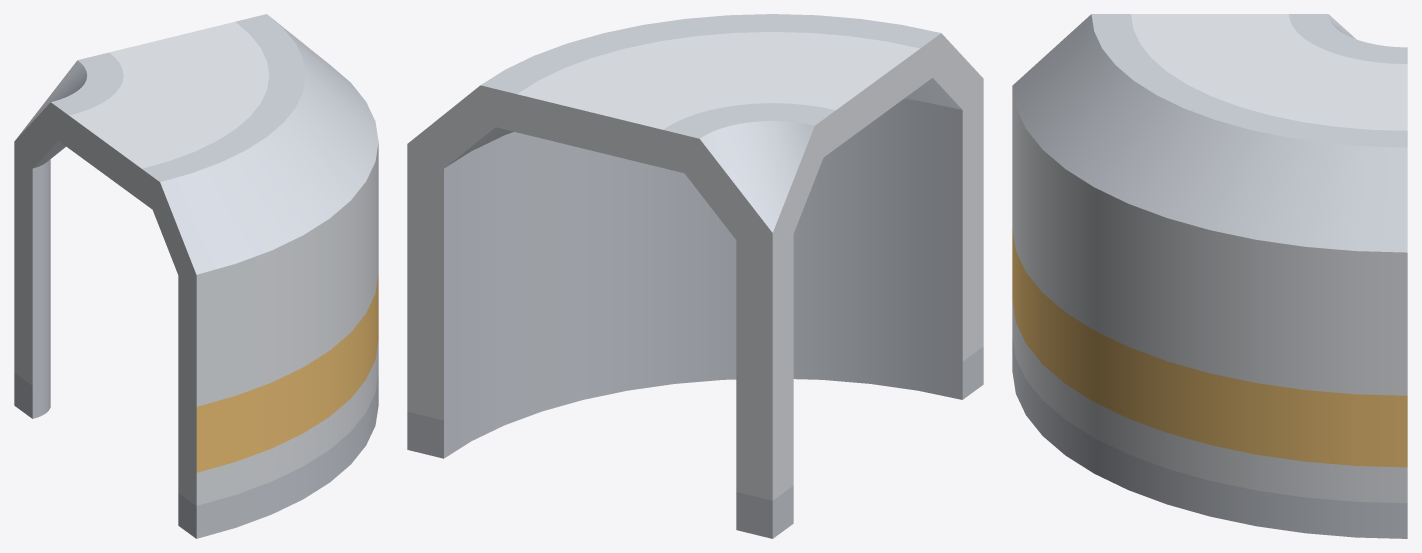
The model's file is corridor_cornerRound.glb.
3 renders of one model, left to right at view 1: azimuth 30°, elevation 25°; view 2: azimuth 150°, elevation 25°; view 3: azimuth 270°, elevation 25°, orthographic. The views are drawn at different scales.
Visible parts, largest first — view 1: corridor_cornerRound; view 2: corridor_cornerRound; view 3: corridor_cornerRound.
Part boxes in pixels (x1,y1,x2,y2): corridor_cornerRound: (14, 14, 378, 538); corridor_cornerRound: (407, 14, 983, 538); corridor_cornerRound: (1012, 14, 1407, 538).
Bounding box in the file's own units: 1 × 1 × 1.
